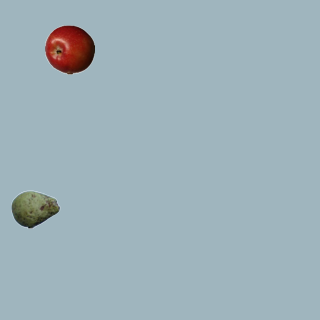Apple Braeburn: (44, 24, 94, 74)
Pear Stone: (10, 184, 60, 234)
